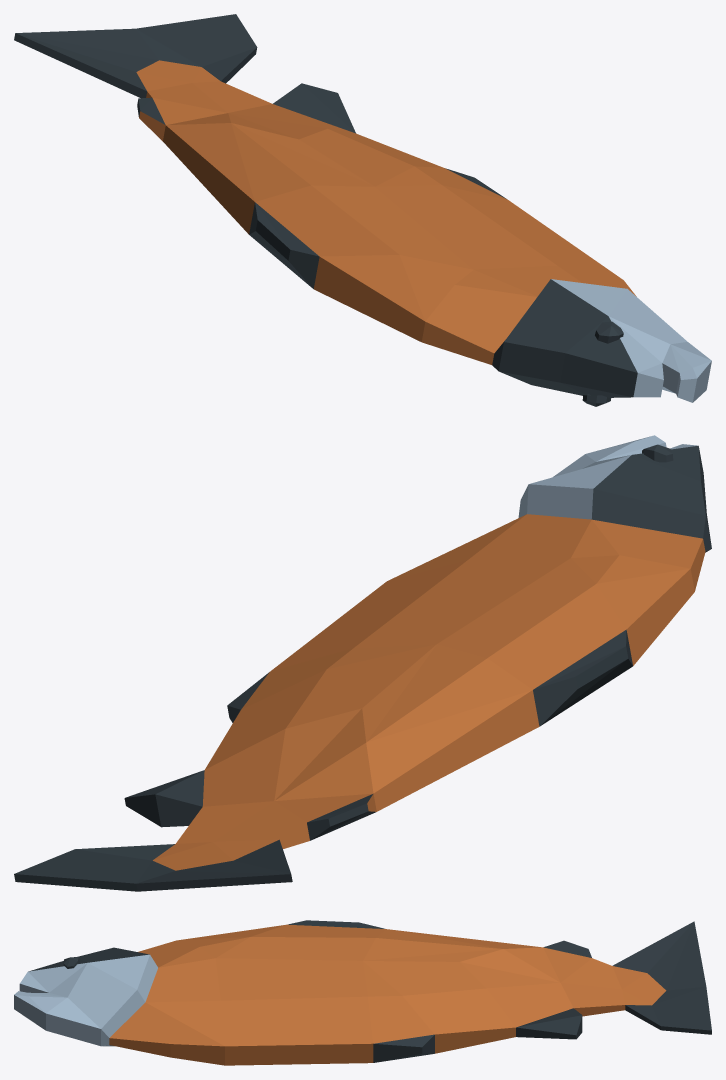
File: Fish03.fbx
3 views of the same model, one above another, from view 1: azimuth 30°, elevation 25°; view 2: azimuth 150°, elevation 25°; view 3: azimuth 270°, elevation 25° (orthographic). The views are drawn at different scales.
Parts seen in each view (by area): view 1: Fish03; view 2: Fish03; view 3: Fish03.
Part boxes in pixels (x1,y1,x2,y2): Fish03: [14, 14, 711, 406]; Fish03: [14, 435, 711, 891]; Fish03: [14, 920, 711, 1065].
Size of the model in its own units: 28.31 by 12.53 by 91.89.
